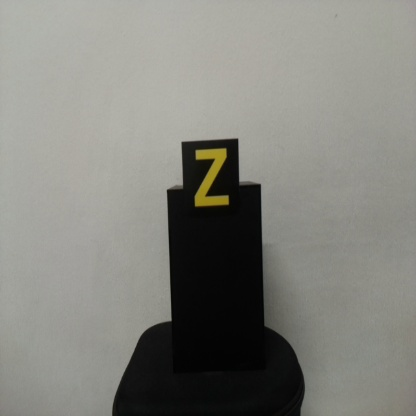id_15: (181, 141, 239, 215)
